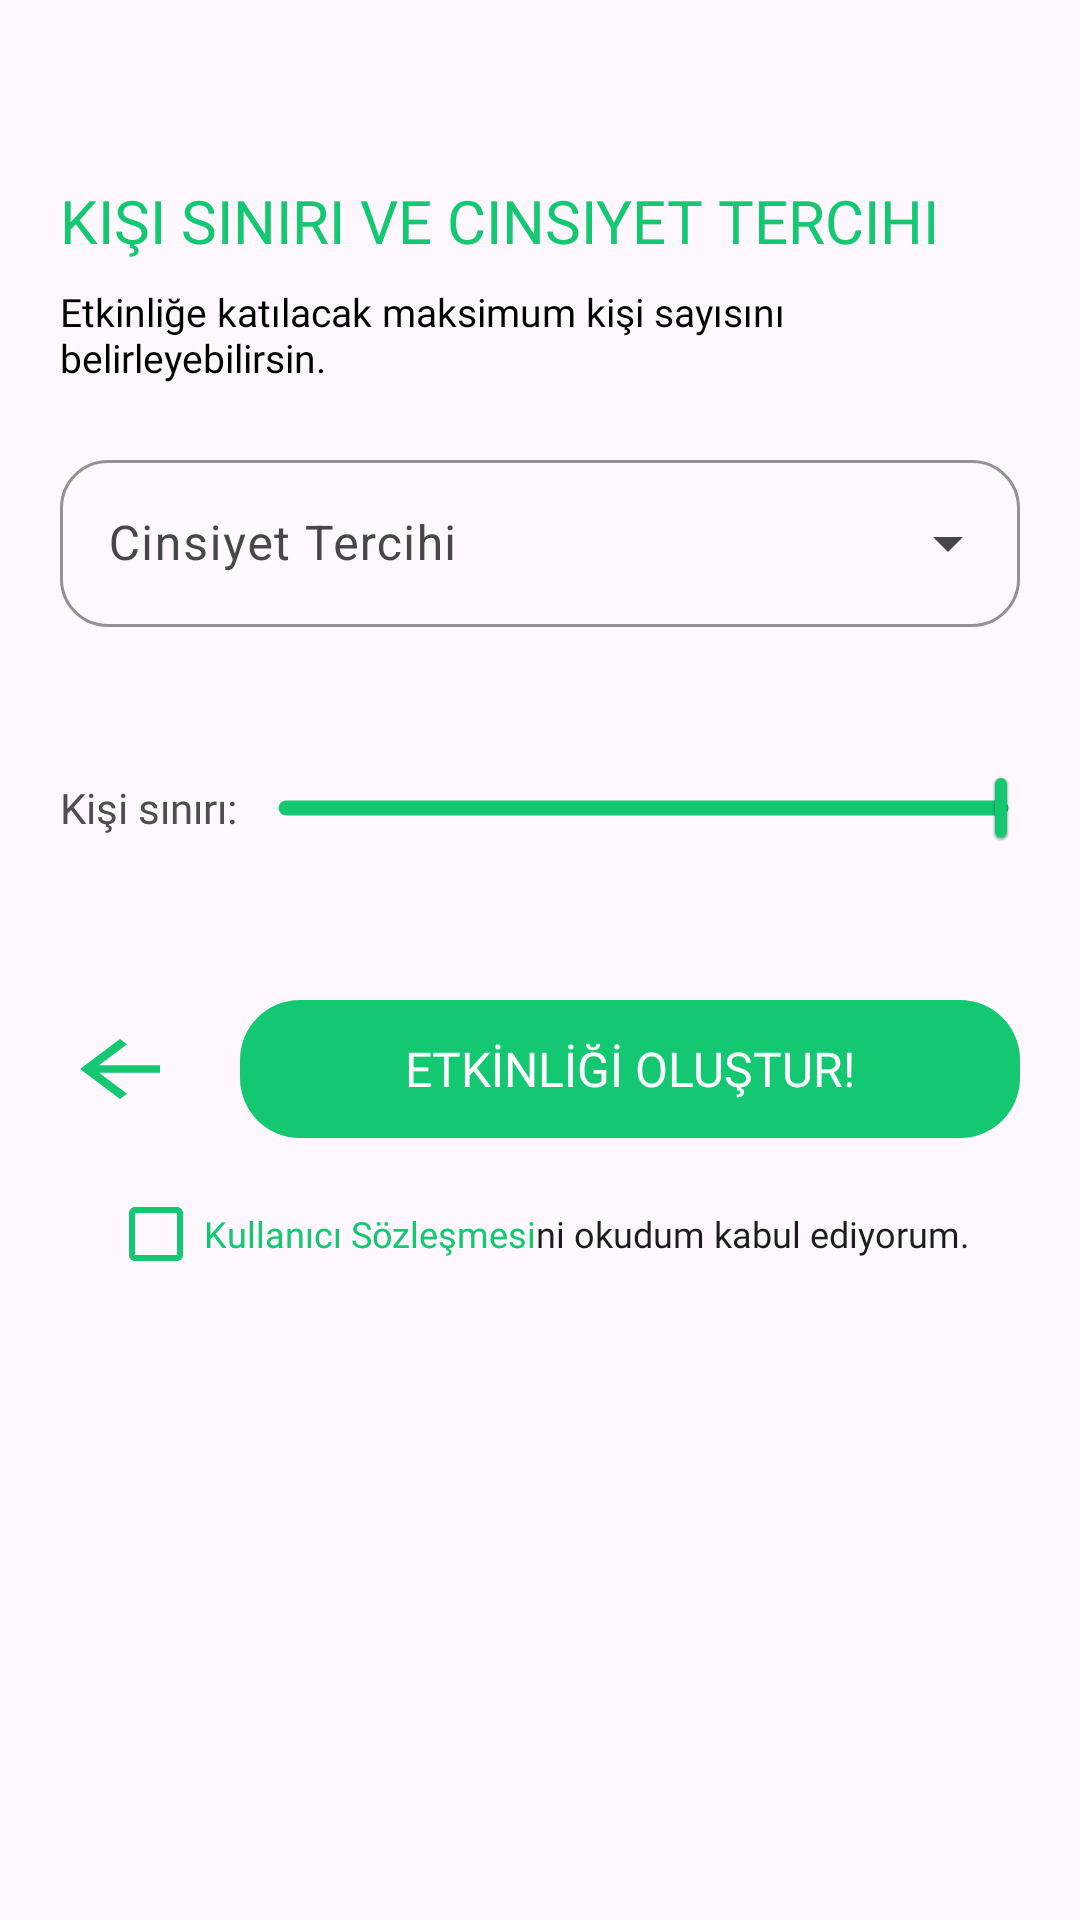

Screen size 1080*1920. Icon name, then its box in pixels as (x1, y1, x2, y2):
arrowback: (80, 1039, 160, 1099)
